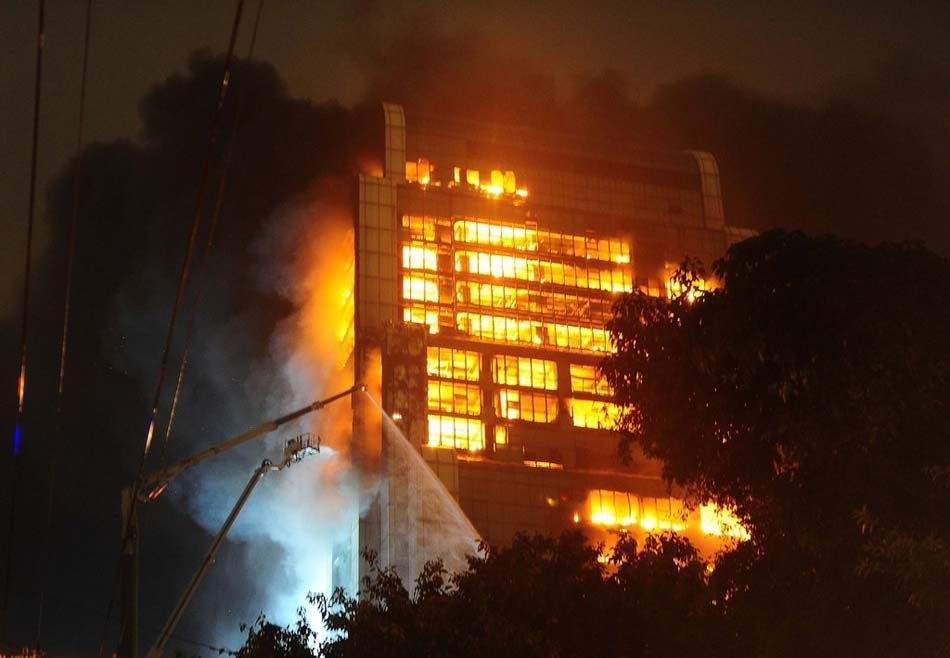fire: (394, 195, 648, 459), (273, 179, 356, 441), (564, 475, 757, 555), (400, 152, 524, 195)
